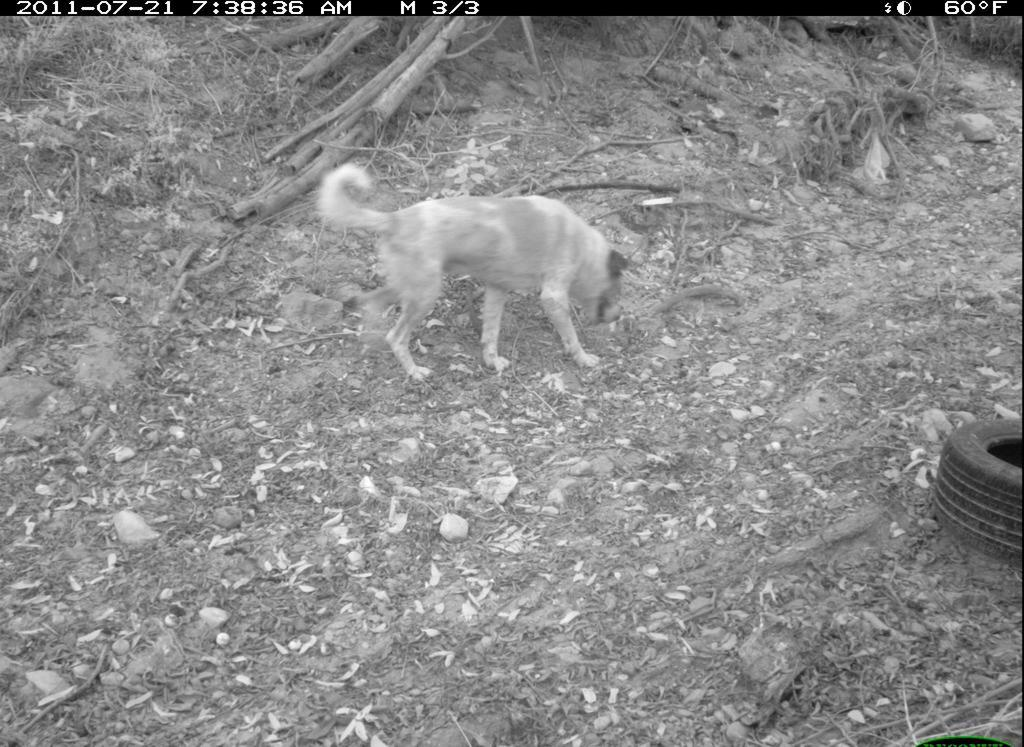dog: (308, 152, 646, 395)
